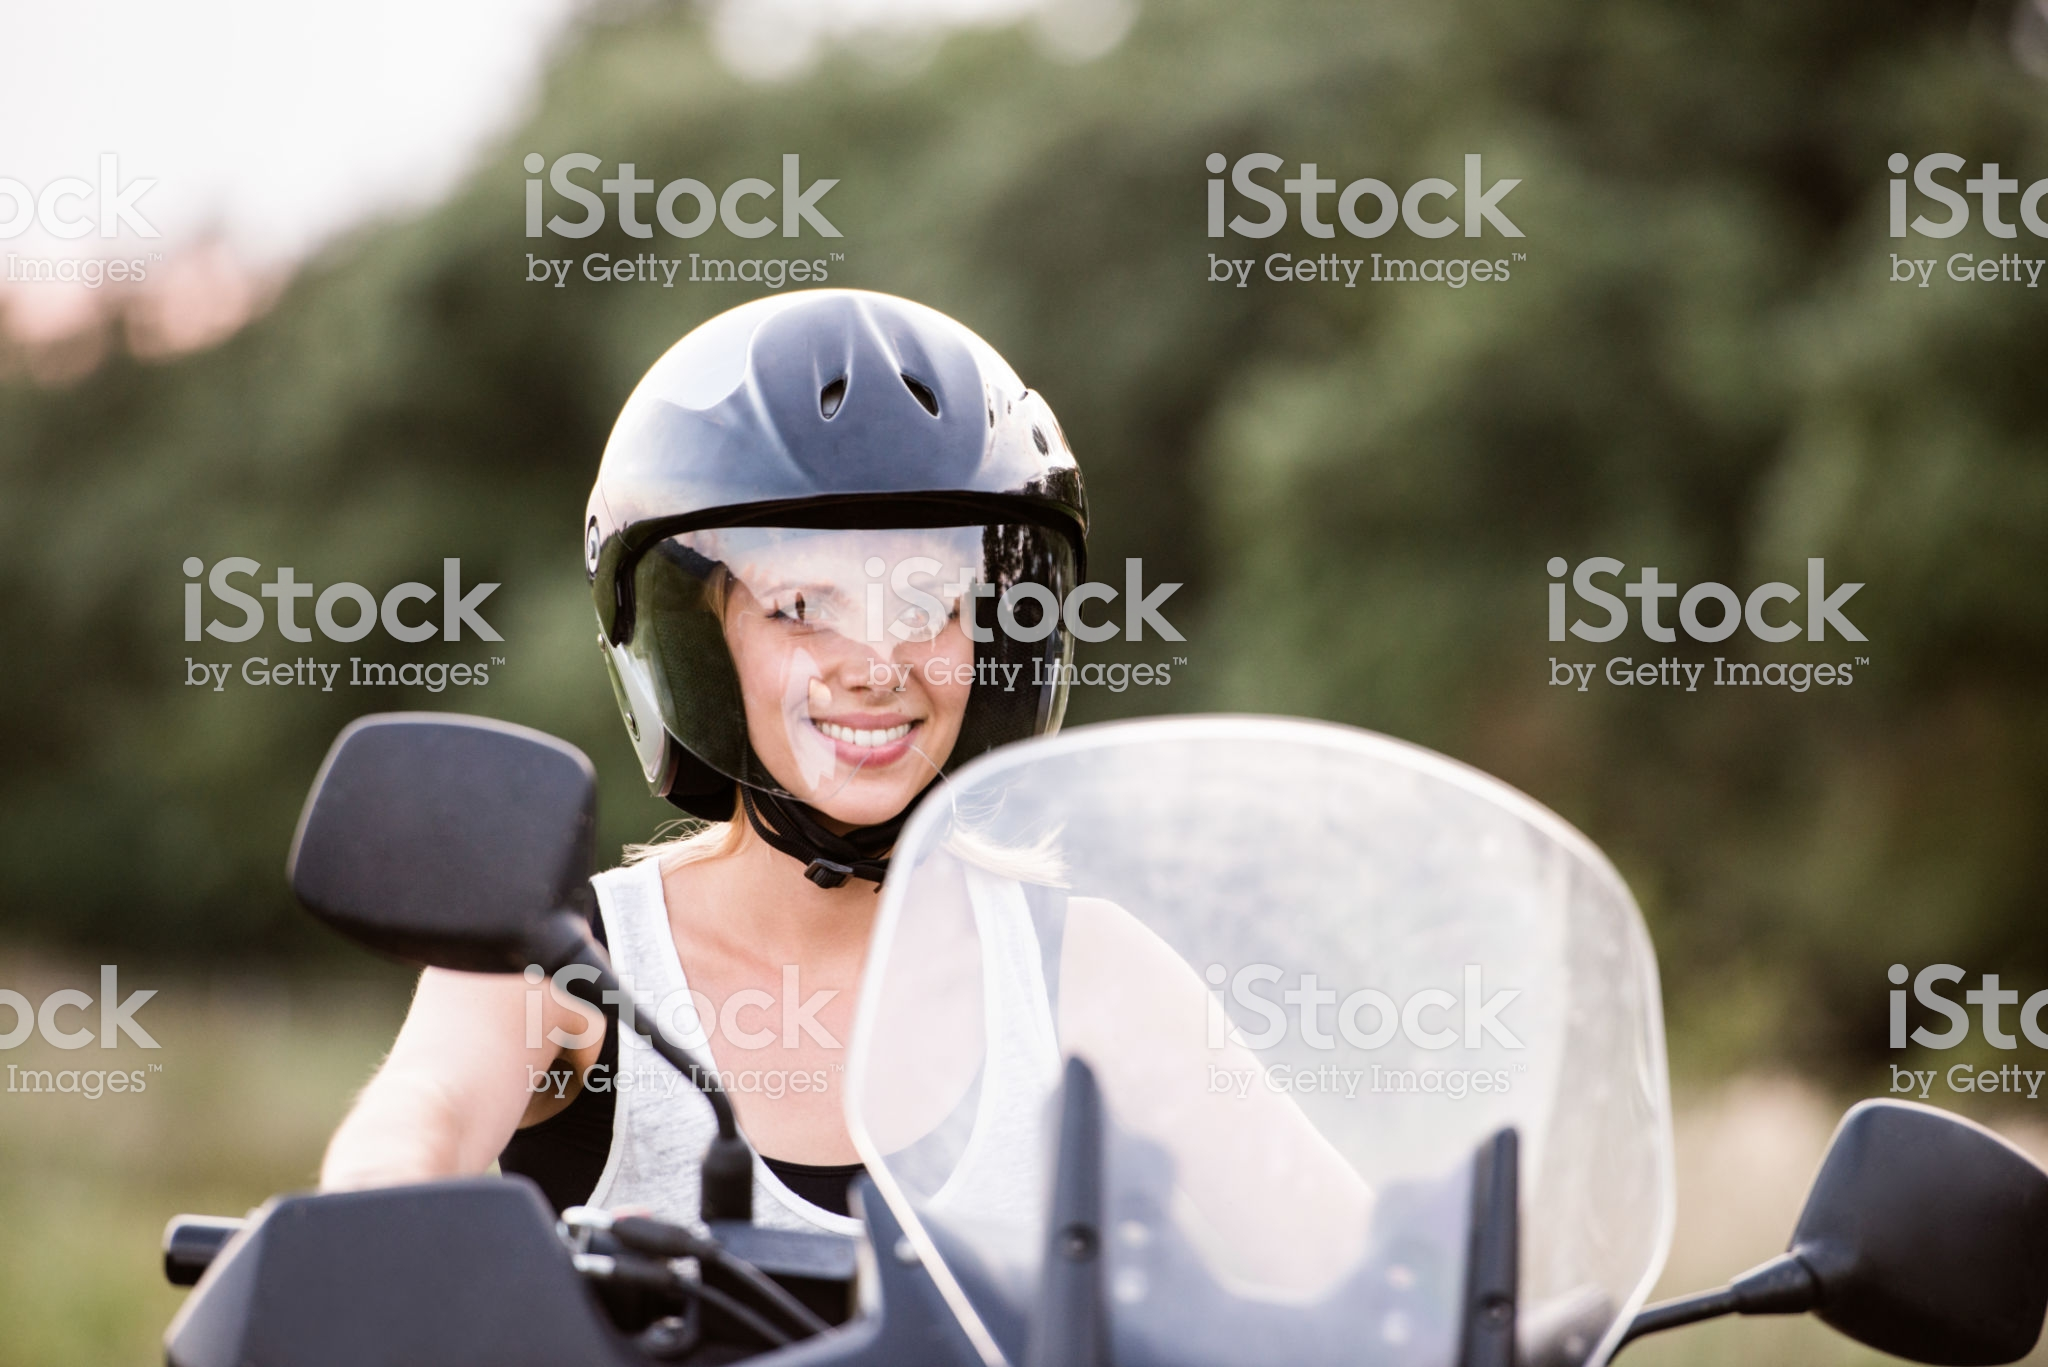helmet: (534, 310, 1067, 743)
